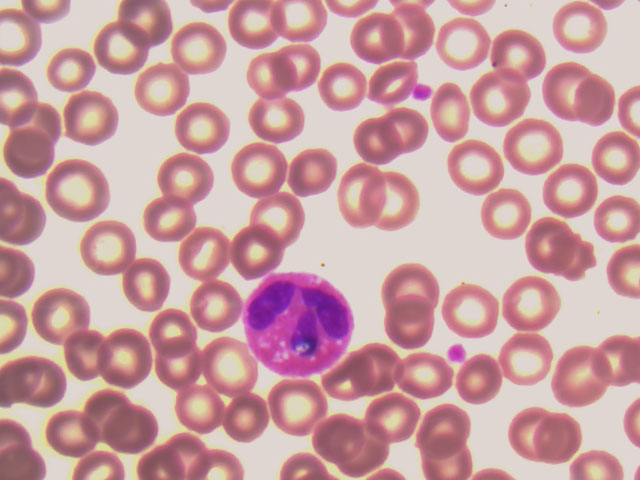Platelets: (443, 338, 471, 365), (411, 82, 435, 102)
RBC: (331, 161, 394, 227), (376, 174, 439, 240), (443, 132, 506, 198), (473, 177, 536, 243), (525, 217, 588, 283), (537, 161, 600, 227), (506, 118, 569, 184), (473, 71, 536, 137), (432, 77, 495, 143), (486, 23, 549, 89), (434, 12, 497, 78), (393, 1, 456, 67), (342, 7, 405, 73), (314, 48, 377, 114), (350, 33, 413, 99), (239, 40, 302, 106), (248, 81, 311, 147), (223, 130, 286, 196), (277, 134, 340, 200), (260, 183, 323, 249), (227, 219, 290, 285), (181, 223, 244, 289), (143, 194, 206, 260), (153, 147, 216, 213), (166, 94, 229, 160), (131, 58, 194, 124), (165, 16, 228, 82), (90, 13, 153, 79), (39, 31, 102, 97), (58, 83, 121, 149), (44, 155, 107, 221), (76, 211, 139, 277), (122, 253, 185, 319), (135, 293, 198, 359), (87, 327, 150, 393), (60, 326, 123, 392), (34, 282, 97, 348), (13, 349, 76, 415), (36, 400, 99, 466), (75, 373, 138, 439), (109, 397, 172, 463), (148, 414, 211, 480), (172, 377, 235, 443), (211, 388, 274, 454), (206, 336, 269, 402), (274, 373, 337, 439), (307, 403, 370, 469), (372, 379, 435, 445), (332, 338, 395, 404), (388, 347, 451, 413), (370, 291, 433, 357), (384, 250, 447, 316), (441, 273, 504, 339), (494, 268, 557, 334), (493, 334, 556, 400), (462, 354, 525, 420), (503, 397, 566, 463), (547, 348, 610, 414), (415, 403, 478, 469), (577, 127, 640, 193), (548, 61, 611, 127), (354, 100, 417, 166), (548, 1, 611, 66), (1, 131, 60, 178), (226, 1, 286, 47), (273, 1, 331, 41)
WBC: (245, 271, 352, 380)
